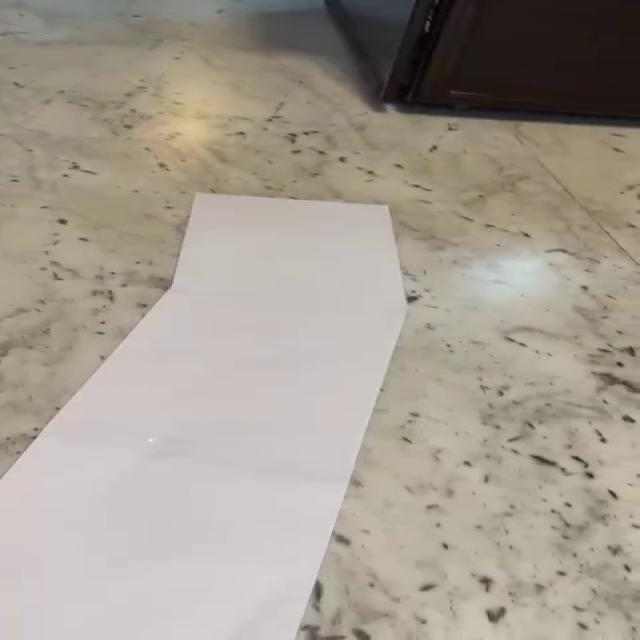road: (1, 194, 407, 640)
